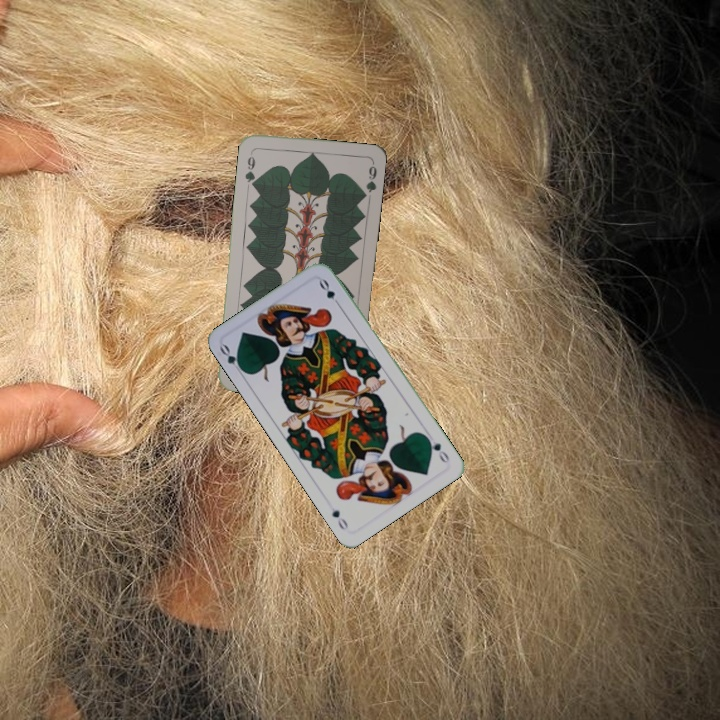G9: (241, 147, 258, 188)
GO: (215, 340, 247, 377), (422, 432, 452, 466)
